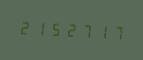five: (47, 18, 61, 39)
one: (32, 17, 46, 38), (92, 21, 106, 41)
seven: (77, 20, 91, 41), (107, 21, 121, 42)
two: (62, 19, 76, 40), (17, 17, 31, 37)
